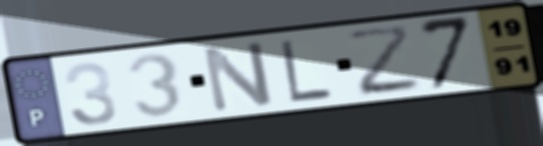3: (124, 50, 186, 122), (62, 59, 119, 127)
7: (418, 13, 477, 94)
L: (277, 37, 337, 104)
N: (199, 38, 277, 116)
Z: (342, 22, 426, 99)
